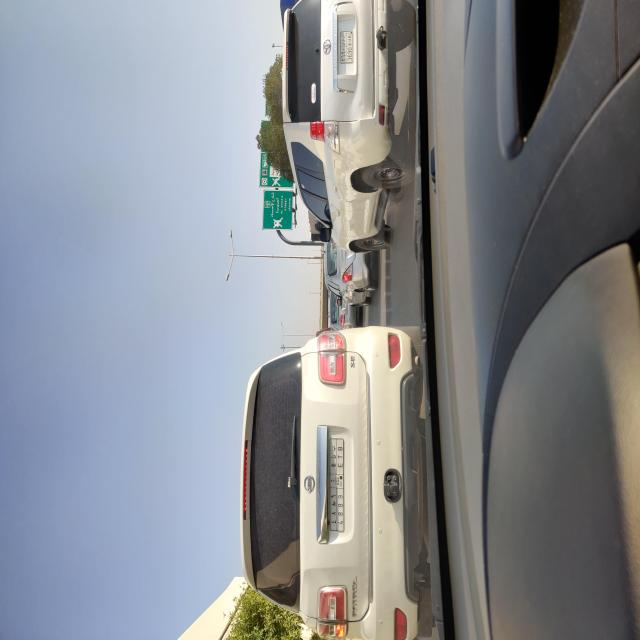license_plate: (329, 438, 344, 532), (340, 30, 353, 64)
